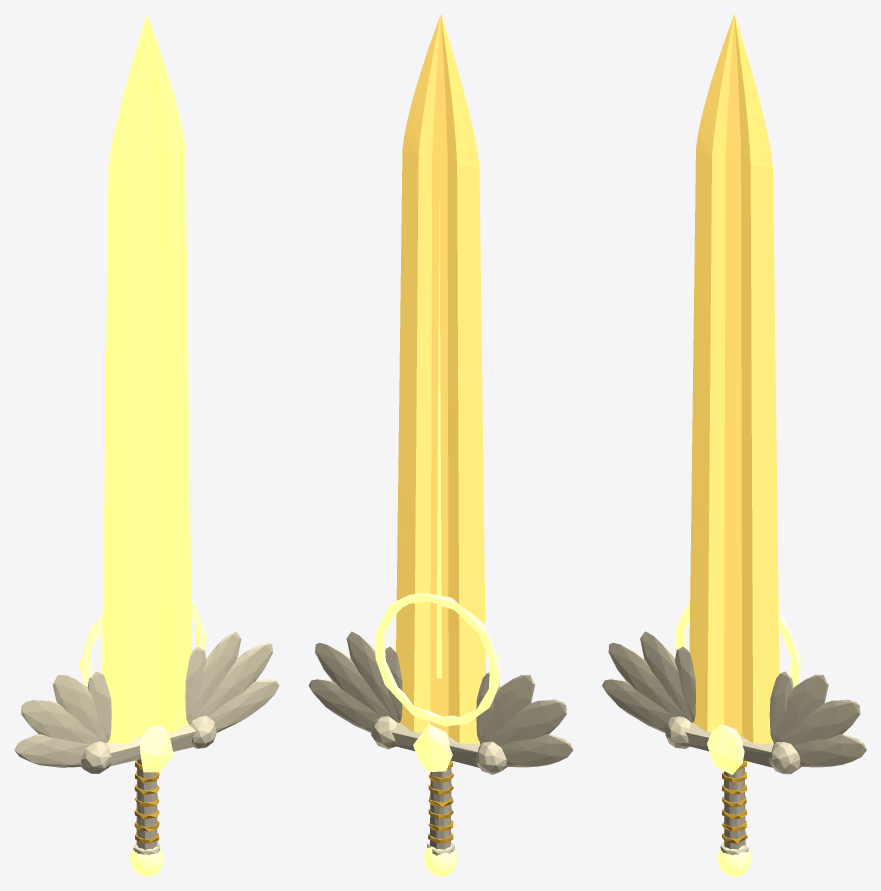
The model's file is sword_7.glb.
3 views of the same model, side by side, from view 1: azimuth 30°, elevation 25°; view 2: azimuth 150°, elevation 25°; view 3: azimuth 330°, elevation 25° (orthographic).
Visible parts, largest first — view 1: part_01, part_08, part_13, part_07, part_14, part_09, part_12, part_18, part_04, part_20, part_17, part_10 (+4 smaller); view 2: part_01, part_17, part_08, part_13, part_07, part_09, part_12, part_02, part_14, part_19, part_20, part_04 (+5 smaller); view 3: part_01, part_13, part_08, part_12, part_14, part_09, part_07, part_18, part_20, part_17, part_04, part_15 (+4 smaller).
Part boxes in pixels (x1=…): part_01: x1=102, y1=14, x2=191, y2=743; part_08: x1=21, y1=700, x2=100, y2=743; part_13: x1=195, y1=642, x2=272, y2=718; part_07: x1=14, y1=734, x2=92, y2=767; part_14: x1=188, y1=631, x2=241, y2=723; part_09: x1=52, y1=675, x2=108, y2=742; part_12: x1=208, y1=679, x2=279, y2=732; part_18: x1=140, y1=725, x2=173, y2=772; part_04: x1=106, y1=724, x2=196, y2=766; part_20: x1=136, y1=759, x2=157, y2=849; part_17: x1=79, y1=601, x2=207, y2=687; part_10: x1=87, y1=671, x2=111, y2=740; part_01: x1=396, y1=14, x2=485, y2=743; part_17: x1=374, y1=592, x2=499, y2=726; part_08: x1=487, y1=699, x2=566, y2=745; part_13: x1=315, y1=642, x2=392, y2=718; part_07: x1=499, y1=734, x2=573, y2=767; part_09: x1=479, y1=675, x2=535, y2=743; part_12: x1=308, y1=679, x2=383, y2=732; part_02: x1=436, y1=201, x2=441, y2=678; part_14: x1=346, y1=631, x2=400, y2=722; part_19: x1=413, y1=724, x2=452, y2=772; part_20: x1=430, y1=761, x2=451, y2=849; part_04: x1=392, y1=722, x2=480, y2=767; part_01: x1=689, y1=14, x2=779, y2=743; part_13: x1=780, y1=699, x2=860, y2=745; part_08: x1=608, y1=643, x2=685, y2=717; part_12: x1=793, y1=734, x2=866, y2=767; part_14: x1=773, y1=674, x2=828, y2=743; part_09: x1=640, y1=631, x2=693, y2=722; part_07: x1=602, y1=679, x2=677, y2=732; part_18: x1=707, y1=724, x2=744, y2=774; part_20: x1=724, y1=760, x2=745, y2=849; part_17: x1=675, y1=601, x2=800, y2=687; part_04: x1=685, y1=722, x2=774, y2=767; part_15: x1=769, y1=671, x2=793, y2=740.
Bounding box in the file's own units: 0.5084 × 1.58 × 0.0889.
